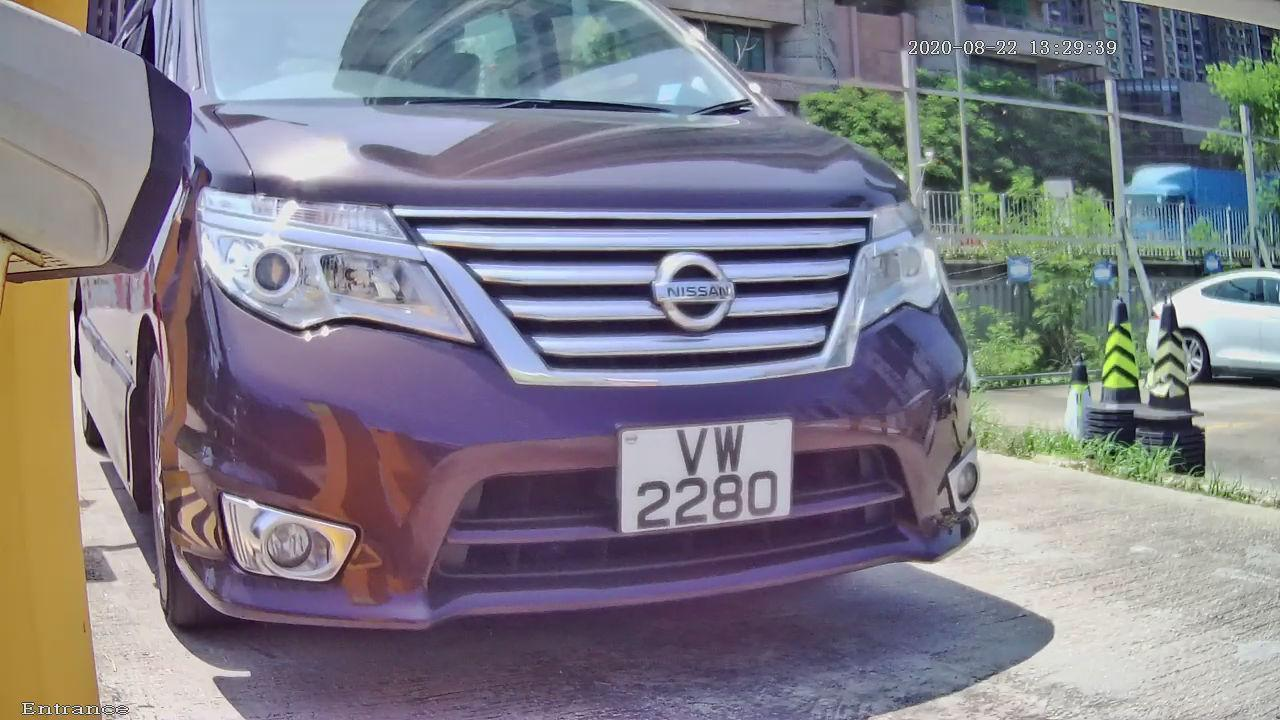License Plate: (601, 402, 801, 547)
